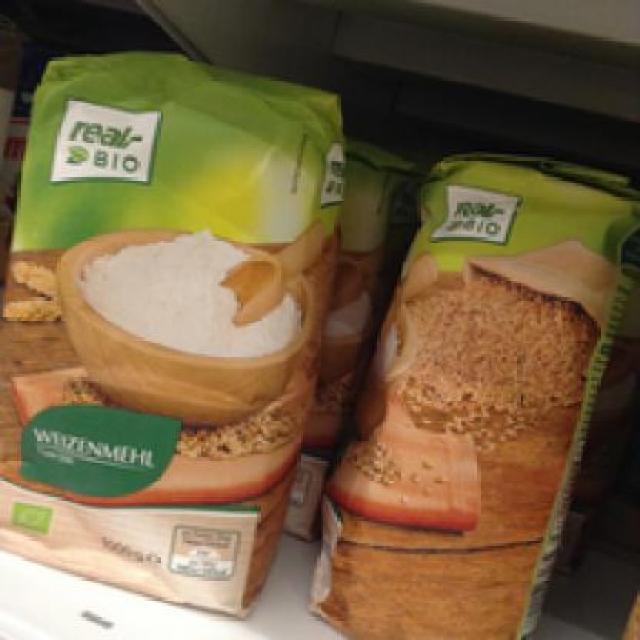Flour: (3, 48, 346, 614), (320, 148, 629, 638)
